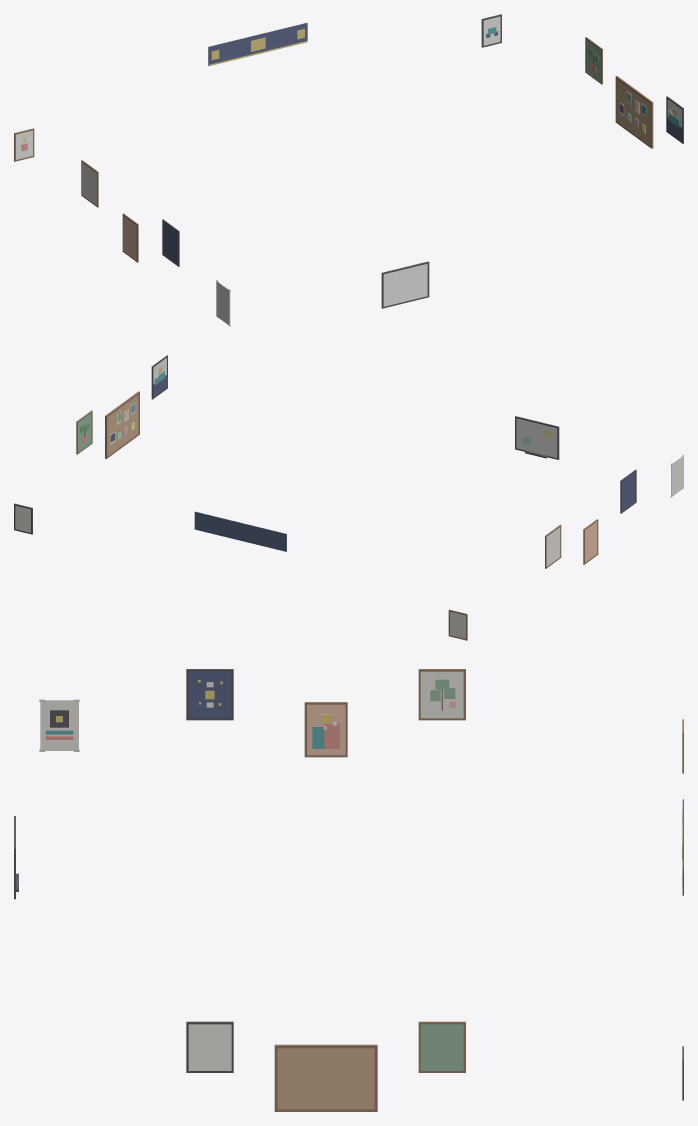
File: Wall_Posters.glb
The picture shows the model from 3 angles, top to bottom: view 1: azimuth 30°, elevation 25°; view 2: azimuth 150°, elevation 25°; view 3: azimuth 270°, elevation 25°; orthographic projection. The views are drawn at different scales.
Visible parts, largest first — view 1: Wall_Posters; view 2: Wall_Posters; view 3: Wall_Posters.
Part boxes in pixels (<box>): Wall_Posters: <box>14,14,683,326</box>; Wall_Posters: <box>14,355,683,640</box>; Wall_Posters: <box>14,669,683,1111</box>.
Size of the model in its own units: 9.72 by 1.41 by 7.79.
